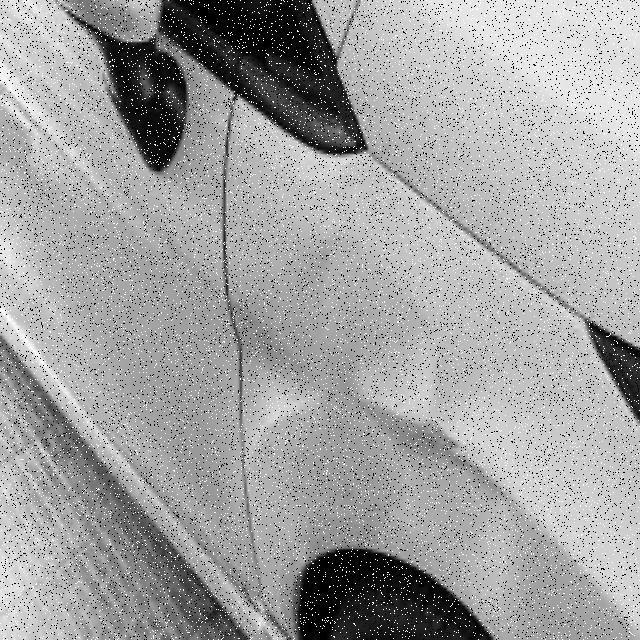fender-dent: (221, 246, 593, 637)
